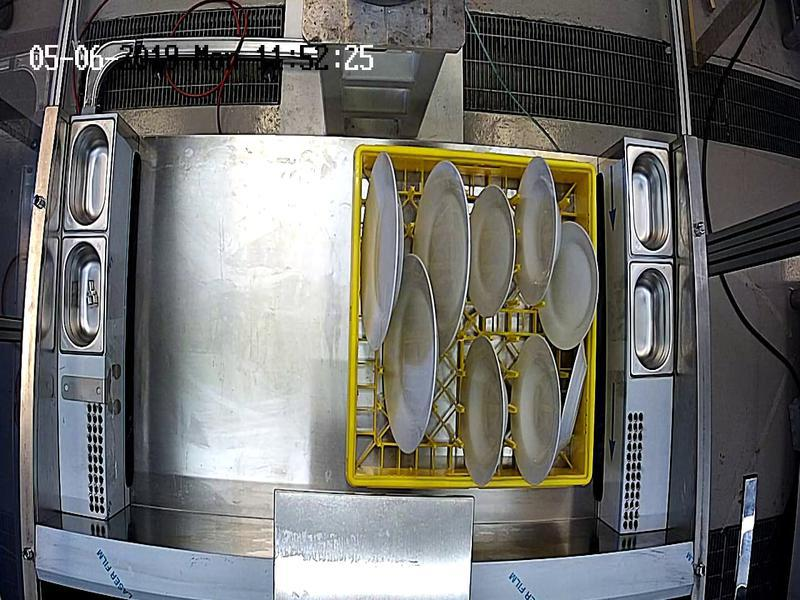Dish: (384, 251, 438, 453), (415, 161, 470, 356), (360, 151, 404, 350), (508, 332, 561, 485), (458, 338, 508, 488), (516, 156, 563, 306), (465, 184, 513, 317)
Inclined_dish: (538, 220, 596, 350), (557, 340, 588, 450)
